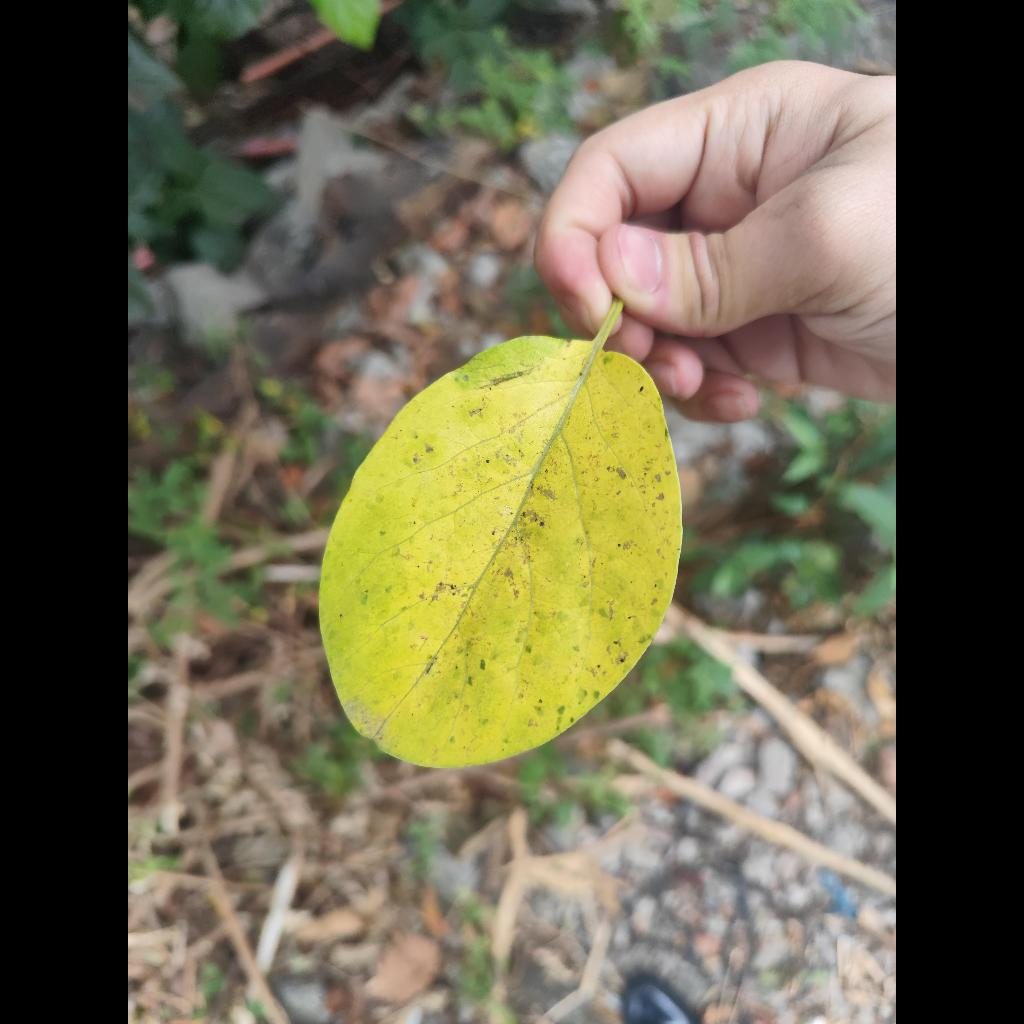nutrient_deficiency: (320, 305, 681, 766)
